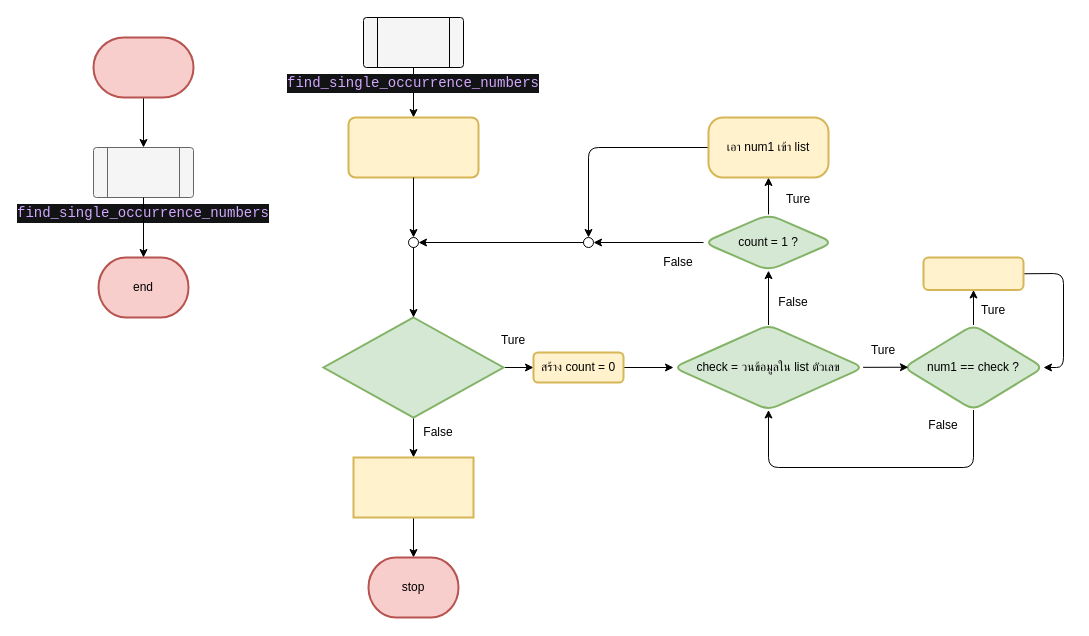
Some shapes in this 1089 by 636 pixel diagram are drawn without their labels. Each missing label, with the box of its shape:
count + 1: (922, 256, 1024, 290)
num1 = วนข้อมูลใน list ตัวเลข: (322, 316, 504, 418)
retrun result [ ]: (352, 456, 474, 518)
start: (92, 36, 194, 98)
สร้าง list resut [ ]: (347, 116, 479, 178)
